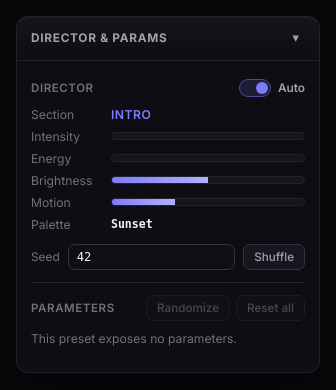
it: ControlPanel › collapses to free up the canvas
Step 1. Click the button named "collapse control panel" → (296, 38), box [287, 28, 305, 49]
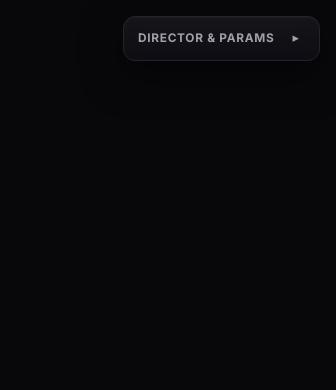
Expected: the button with test id "randomize" is gone
